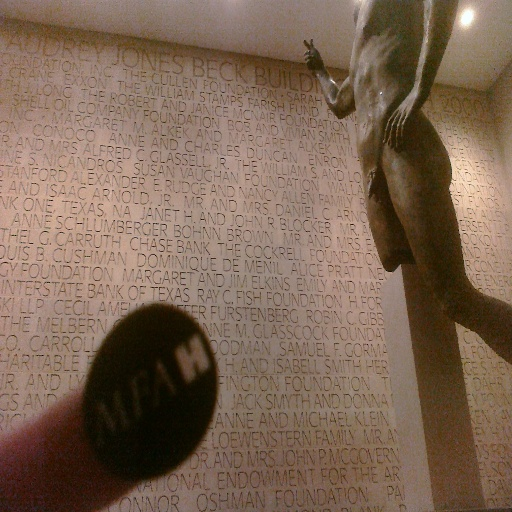hand: (382, 91, 426, 155), (301, 39, 322, 69)
